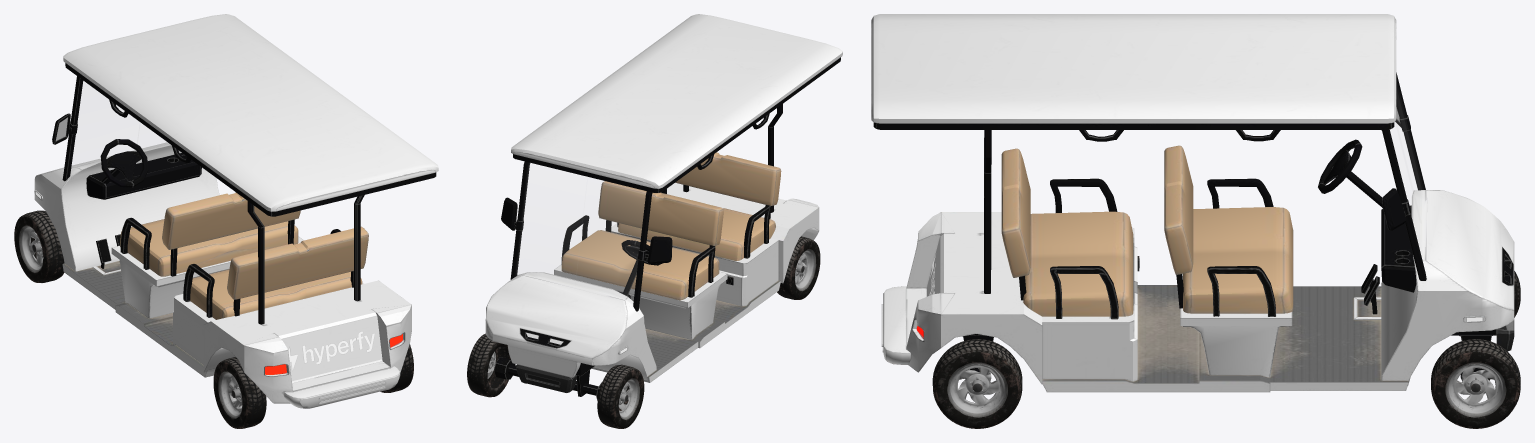
Rendered from GOLFCART.glb.
The picture shows the model from 3 angles, left to right: view 1: azimuth 30°, elevation 25°; view 2: azimuth 150°, elevation 25°; view 3: azimuth 270°, elevation 25°; orthographic projection. The views are drawn at different scales.
Visible parts, largest first — view 1: BODY, Tire_tireFL, Tire_tireBL, Tire_tireBR; view 2: BODY, Tire_tireFL, Tire_tireFR, Tire_tireBL; view 3: BODY, Tire_tireFR, Tire_tireBR.
Boxes of the visible parts, box(x1,y1,x2,y2) form: BODY: box(34, 14, 438, 408); Tire_tireFL: box(14, 210, 64, 282); Tire_tireBL: box(213, 357, 266, 428); Tire_tireBR: box(380, 344, 413, 392); BODY: box(485, 14, 842, 400); Tire_tireFL: box(597, 364, 644, 428); Tire_tireFR: box(467, 333, 510, 397); Tire_tireBL: box(777, 236, 820, 299); BODY: box(871, 14, 1514, 392); Tire_tireFR: box(1431, 339, 1520, 428); Tire_tireBR: box(932, 339, 1022, 428).
Bounding box in the file's own units: 1.83 × 2.32 × 4.28.
Materials: 5 (3 with a texture image).
